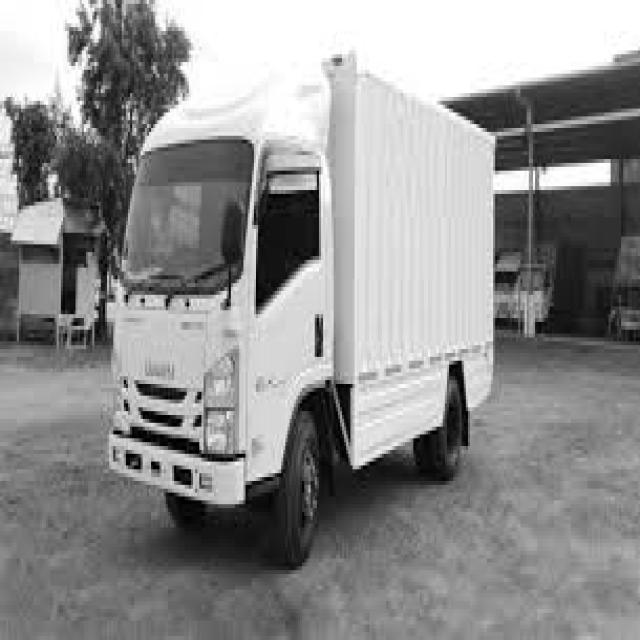truck: (97, 24, 353, 574)
